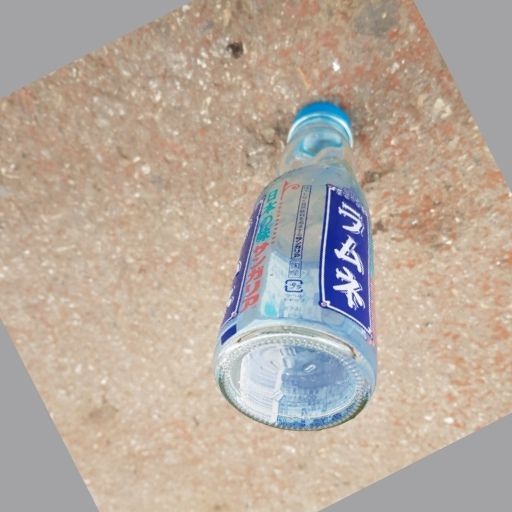Glass_4: (210, 98, 387, 432)
